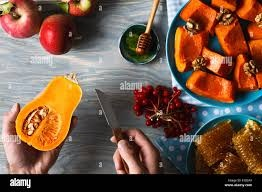knife: (95, 88, 128, 174)
